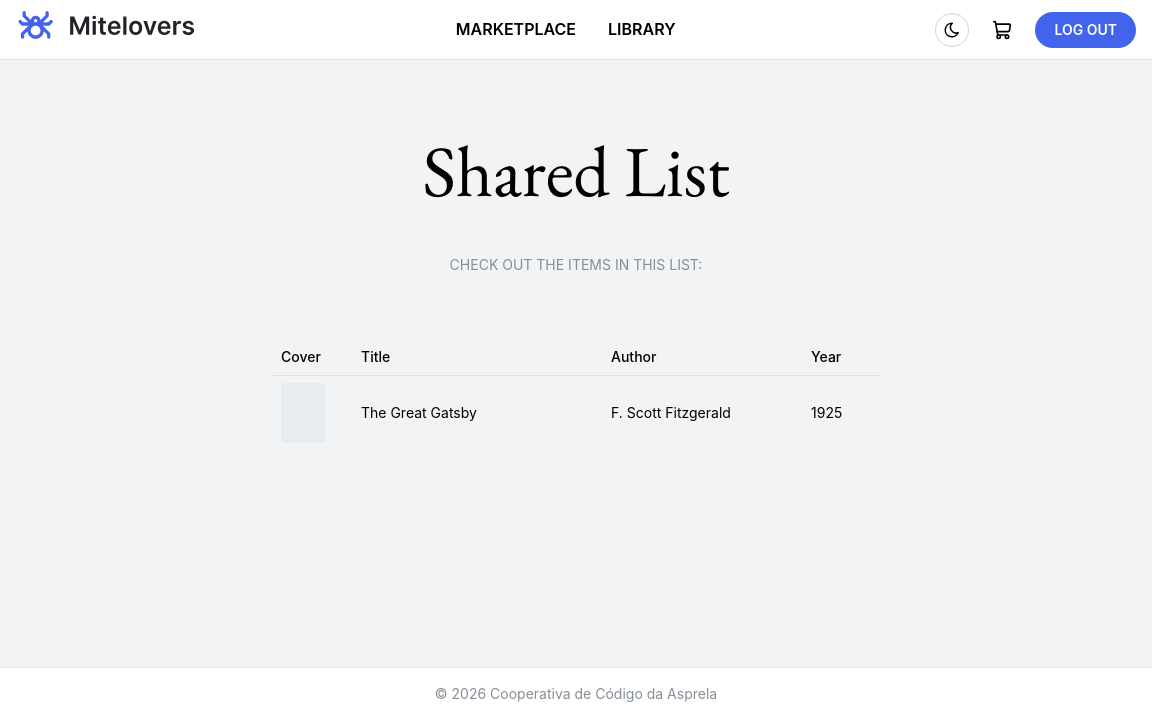
Scenario: ListItemsPage › closes the modal when close button is clicked
The image size is (1152, 720).
What coordinates should you click on to do the following:
click the text "The Great Gatsby"
I would click on:
 (476, 413)
Its box is [351,376,601,450].
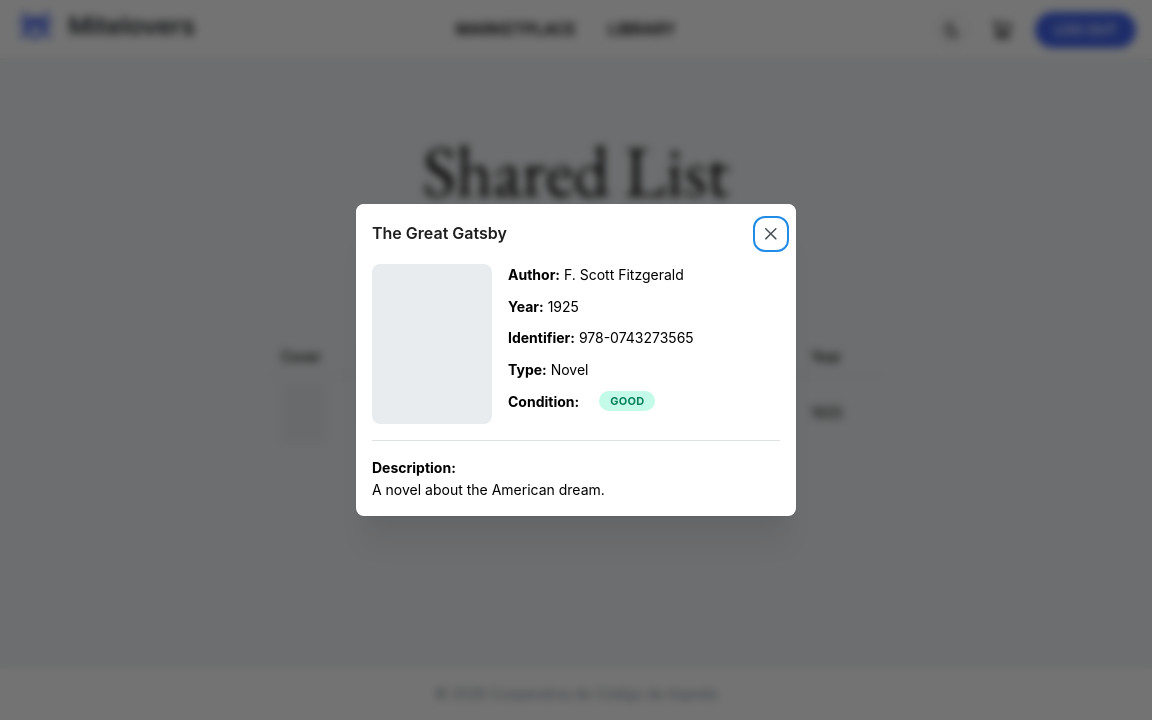
Result: the button named "close" is shown
What coordinates should you click on to do the following:
click the button named "close"
I would click on:
 (771, 234)
Its box is [757,220,785,248].
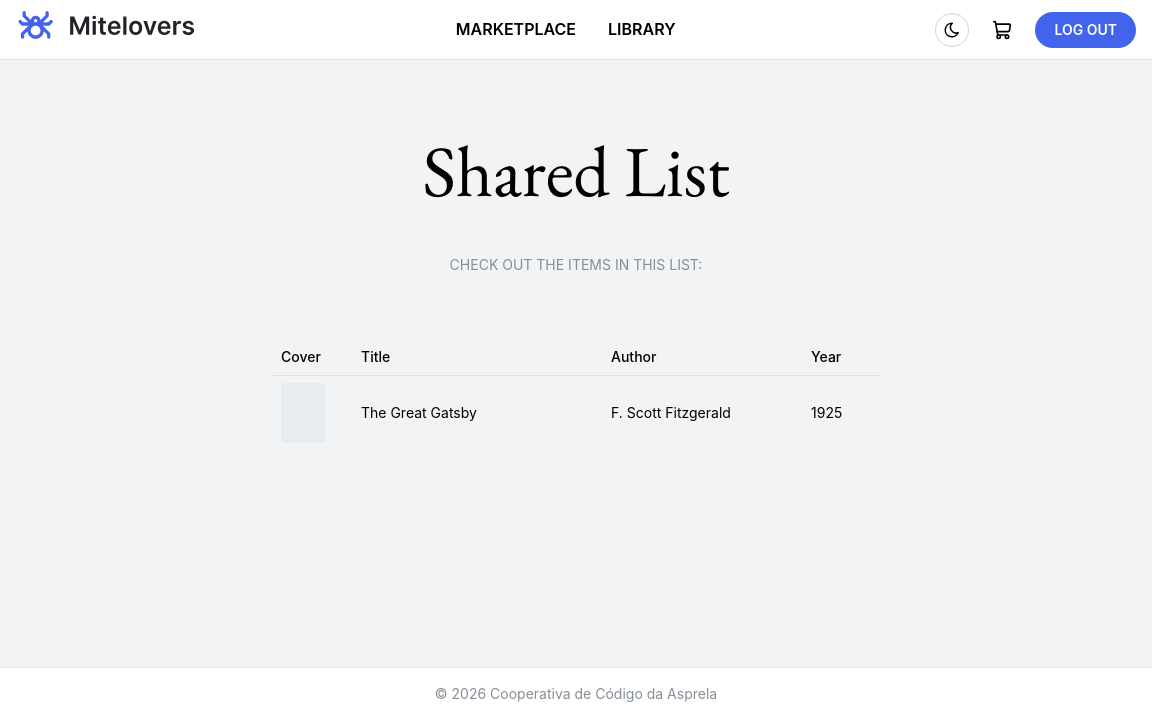
Result: the text "A novel about the American dream" is gone
